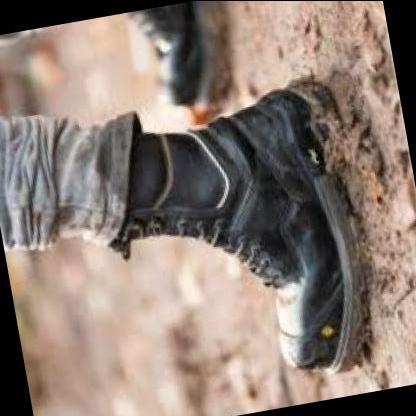safety-shoe: (118, 65, 408, 408)
